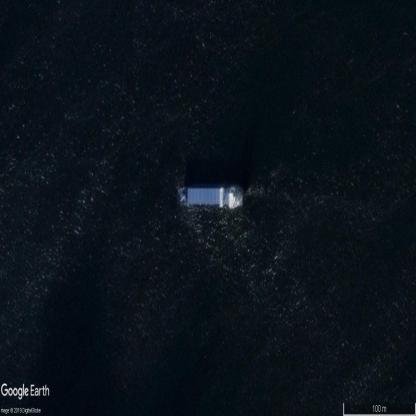ship: (179, 186, 244, 209)
